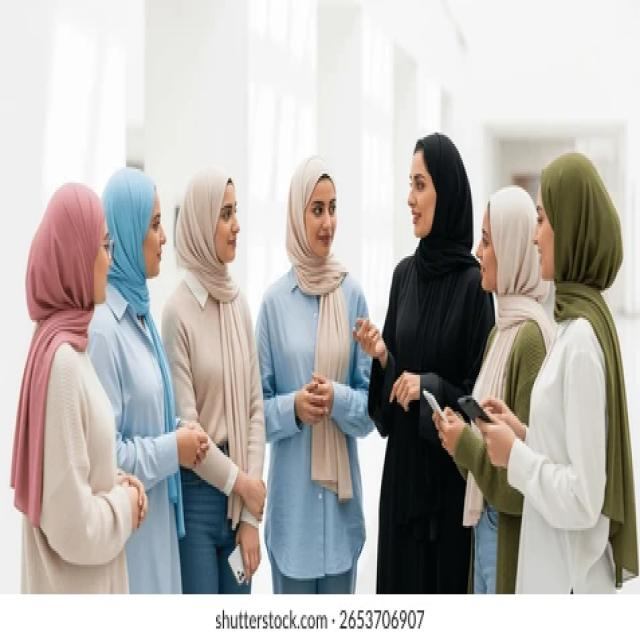no_helmet: (1, 152, 122, 359), (530, 138, 639, 332), (385, 112, 483, 304), (266, 130, 366, 317), (98, 139, 180, 323), (168, 150, 258, 312), (468, 172, 554, 326)
